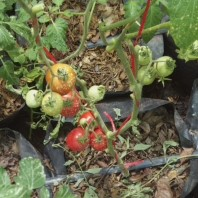tomato: (43, 63, 81, 98), (65, 126, 92, 152), (39, 91, 64, 118), (154, 55, 182, 77), (132, 45, 158, 68), (60, 96, 81, 120), (135, 65, 157, 87), (87, 82, 109, 104), (90, 129, 110, 153), (78, 112, 99, 133), (23, 88, 41, 110)
